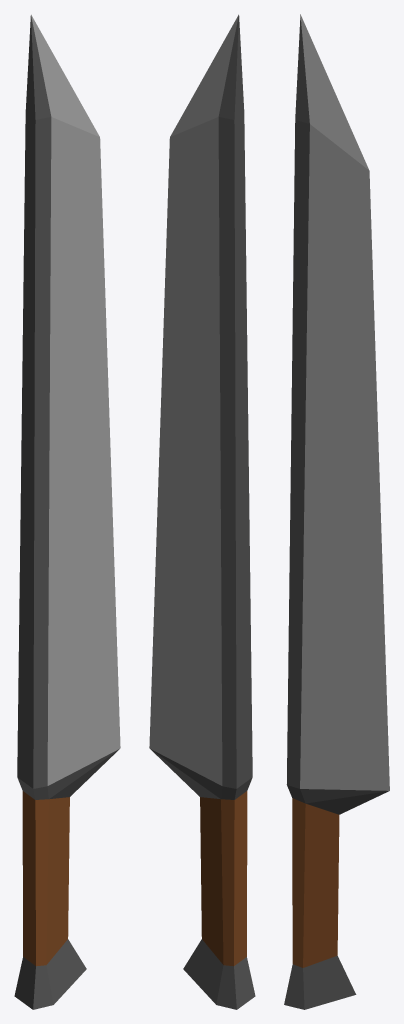
Rendered from Low Poly Weapon Pack - by Kickin It Studios.fbx_Orc_Sword.glb.
3 renders of one model, left to right at view 1: azimuth 30°, elevation 25°; view 2: azimuth 150°, elevation 25°; view 3: azimuth 330°, elevation 25°, orthographic.
Visible parts, largest first — view 1: Orc Sword; view 2: Orc Sword; view 3: Orc Sword.
Part boxes in pixels (bbox=[...]): Orc Sword: bbox=[14, 14, 120, 1009]; Orc Sword: bbox=[149, 14, 255, 1009]; Orc Sword: bbox=[284, 14, 389, 1009].
Bounding box in the file's own units: 0.1497 × 1.46 × 0.05.
